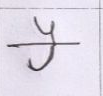ai_matra: (33, 16, 61, 42)
